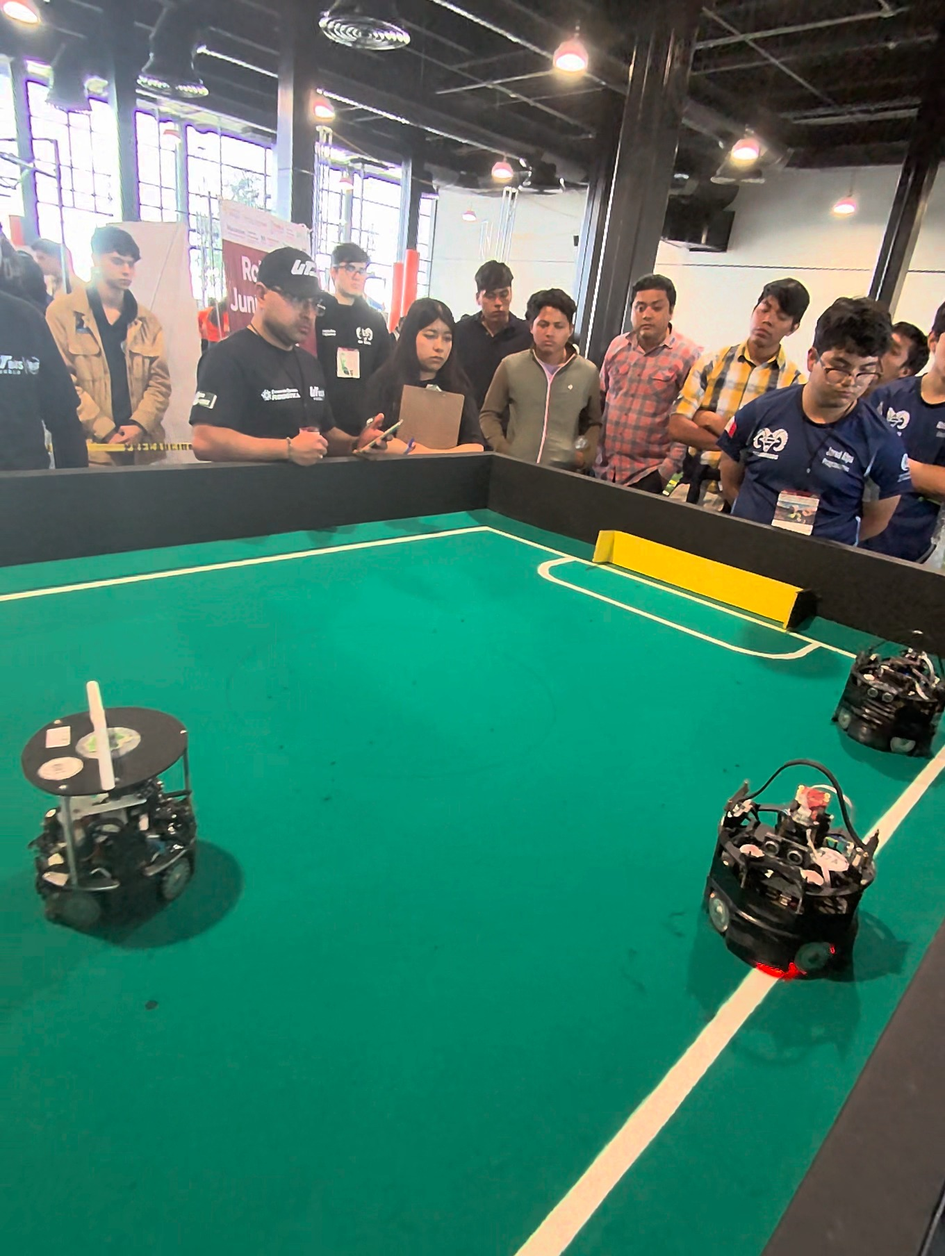Robot: (14, 676, 212, 955), (709, 744, 889, 996), (836, 631, 945, 769)
